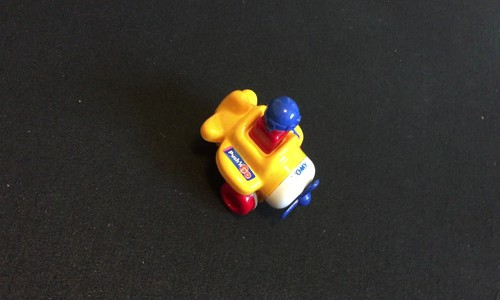toy: (203, 82, 324, 224)
